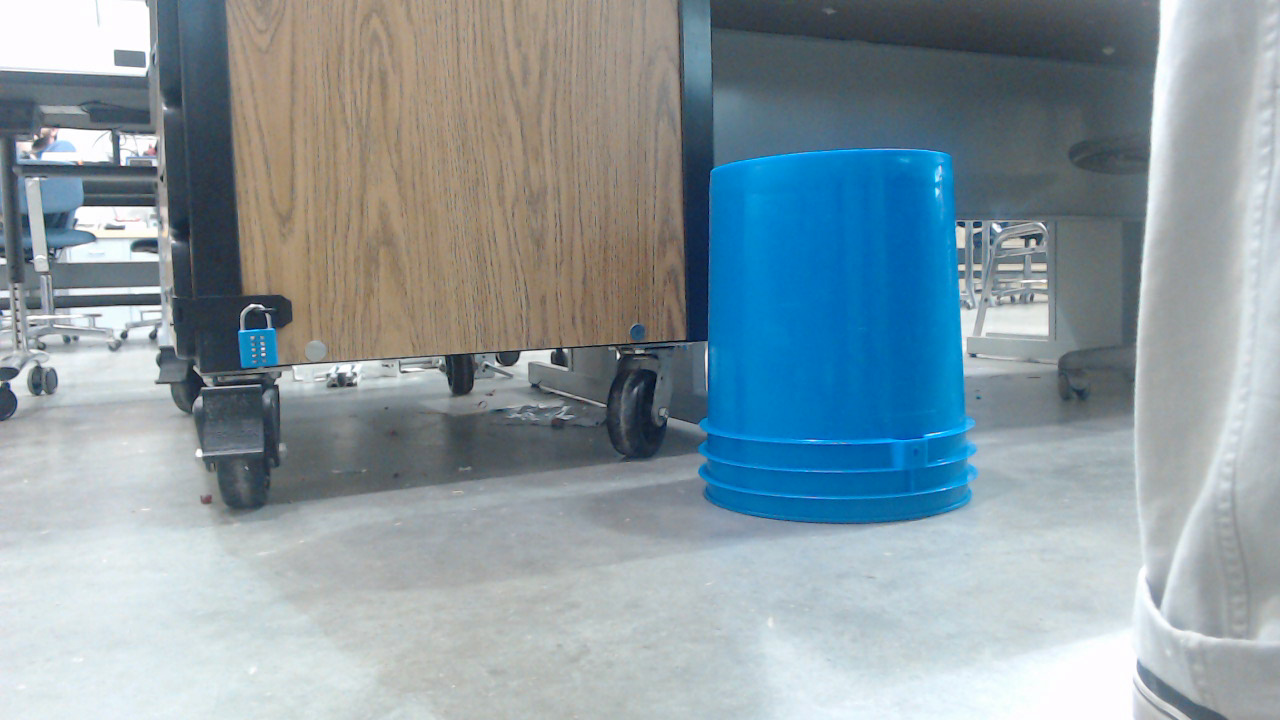blue_bucket: (698, 147, 989, 535)
